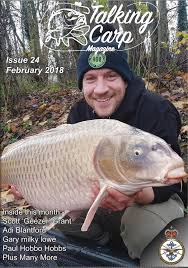carp: (1, 118, 188, 232)
